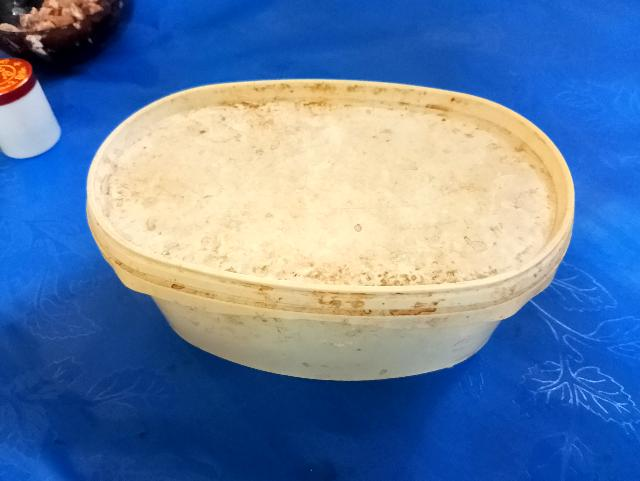hardplastic: (77, 66, 573, 390)
